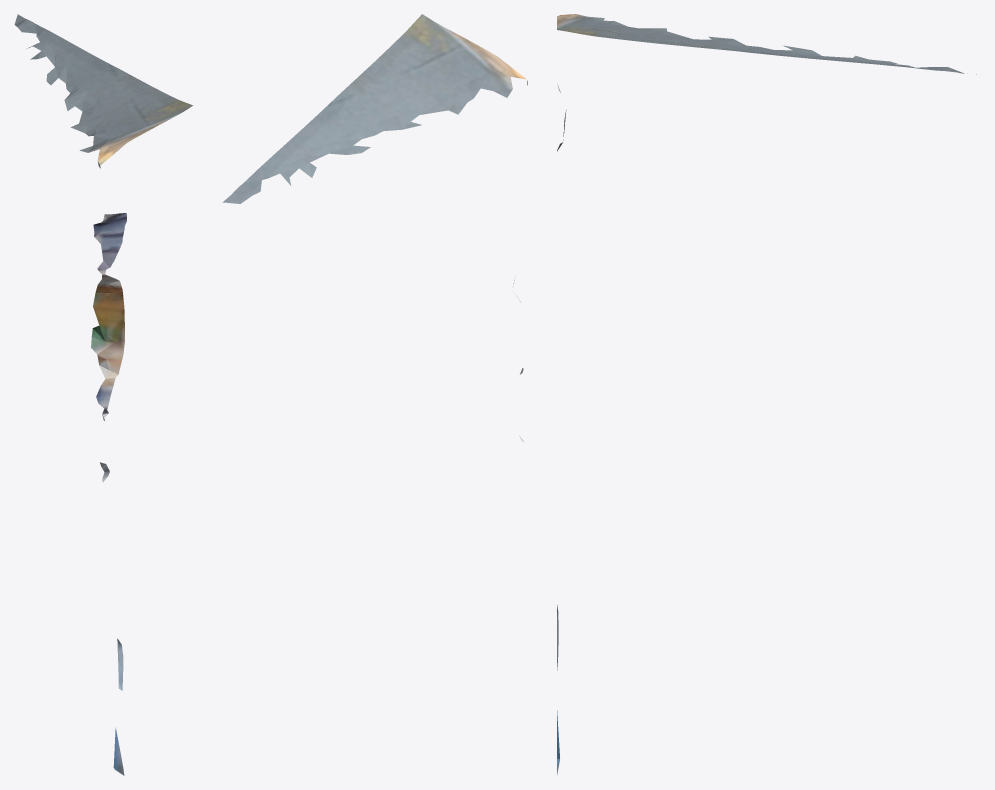
The picture shows the model from 3 angles, left to right: view 1: azimuth 30°, elevation 25°; view 2: azimuth 150°, elevation 25°; view 3: azimuth 270°, elevation 25°; orthographic projection. The views are drawn at different scales.
Bounding box in the file's own units: 0.8092 × 5.31 × 2.59.
1 material, 1 textured.
